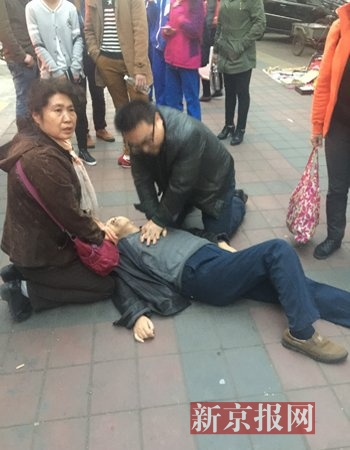10+: (1, 1, 345, 333)
down: (97, 209, 350, 373)
